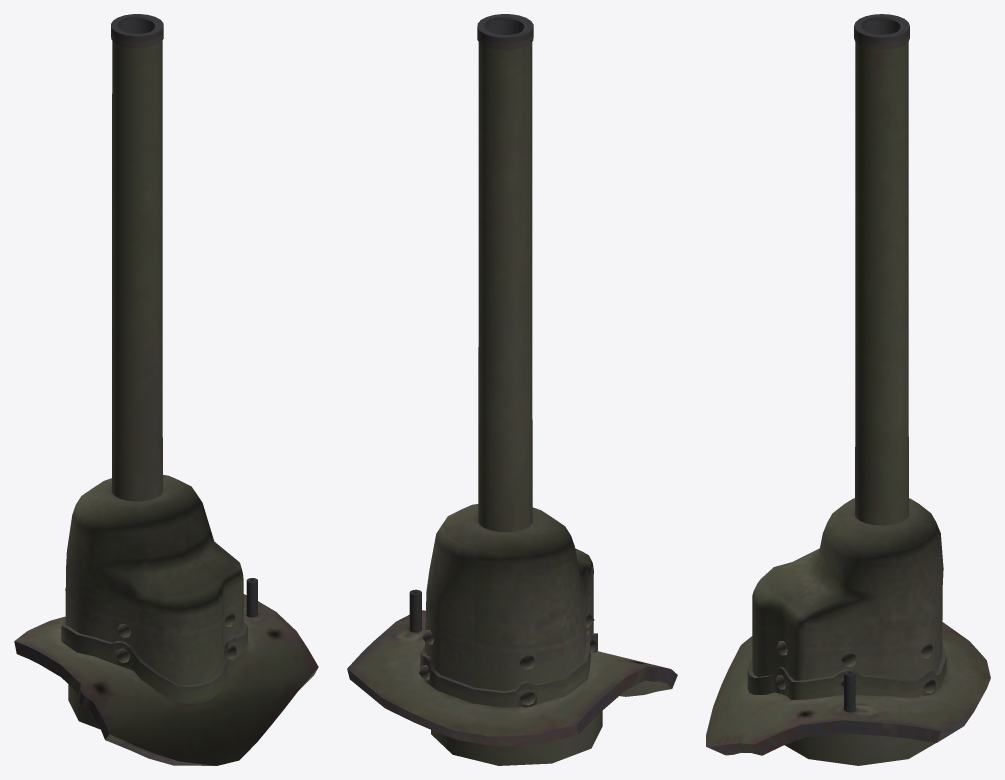
The model's file is Gun_01.glb.
3 views of the same model, side by side, from view 1: azimuth 30°, elevation 25°; view 2: azimuth 150°, elevation 25°; view 3: azimuth 270°, elevation 25° (orthographic). The views are drawn at different scales.
Visible parts, largest first — view 1: set_0_group_0; view 2: set_0_group_0; view 3: set_0_group_0.
Part boxes in pixels (x1,y1,x2,y2): set_0_group_0: [14, 14, 318, 765]; set_0_group_0: [347, 14, 677, 765]; set_0_group_0: [706, 14, 990, 765].
Bounding box in the file's own units: 0.5349 × 1.58 × 0.5709.
1 material, 1 textured.
